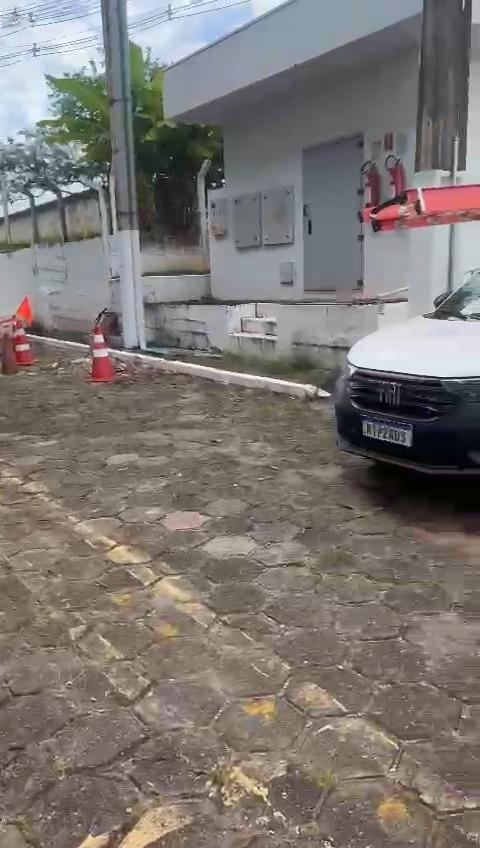Cone: (87, 316, 121, 381), (11, 312, 37, 366)
